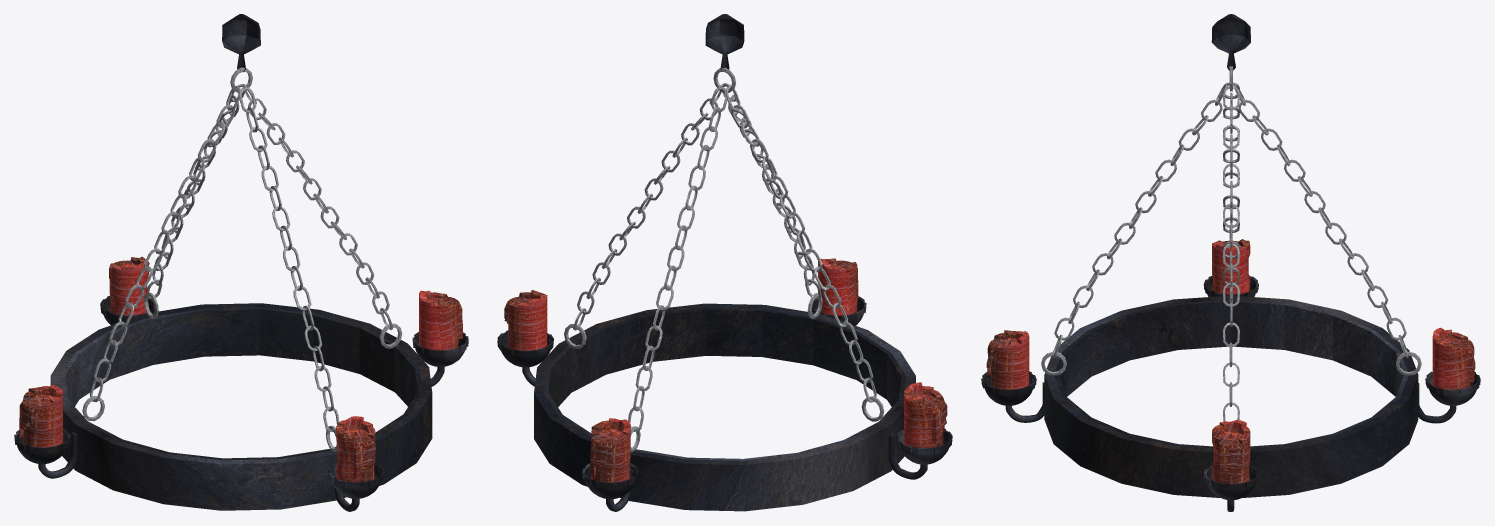
The model's file is Lampara.fbx.
3 views of the same model, side by side, from view 1: azimuth 30°, elevation 25°; view 2: azimuth 150°, elevation 25°; view 3: azimuth 270°, elevation 25° (orthographic). The views are drawn at different scales.
Visible parts, largest first — view 1: Base_lamp, Anillas, Vela2, Vela3, Vela1, Vela4, Soporte_velas3, Top_Lamp, Soporte_velas4, Soporte_velas2; view 2: Base_lamp, Anillas, Vela2, Vela4, Vela1, Vela3, Soporte_velas3, Top_Lamp, Soporte_velas5, Soporte_velas2; view 3: Base_lamp, Anillas, Vela4, Vela3, Vela1, Vela2, Top_Lamp, Soporte_velas4, Soporte_velas5, Soporte_velas2.
Boxes of the visible parts, <box> form: Base_lamp: <box>50,303,432,510</box>; Anillas: <box>82,67,402,451</box>; Vela2: <box>19,384,62,447</box>; Vela3: <box>335,416,375,482</box>; Vela1: <box>419,290,462,350</box>; Vela4: <box>109,256,149,315</box>; Soporte_velas3: <box>14,428,76,478</box>; Top_Lamp: <box>222,14,260,72</box>; Soporte_velas4: <box>328,462,384,511</box>; Soporte_velas2: <box>412,332,468,386</box>; Base_lamp: <box>534,303,915,511</box>; Anillas: <box>564,67,884,452</box>; Vela2: <box>904,382,947,447</box>; Vela4: <box>590,418,630,482</box>; Vela1: <box>504,289,547,350</box>; Vela3: <box>818,258,858,315</box>; Soporte_velas3: <box>888,429,952,479</box>; Top_Lamp: <box>705,14,744,70</box>; Soporte_velas5: <box>582,463,638,511</box>; Soporte_velas2: <box>497,330,553,386</box>; Base_lamp: <box>1044,295,1418,497</box>; Anillas: <box>1041,66,1421,421</box>; Vela4: <box>1432,327,1475,389</box>; Vela3: <box>986,330,1029,389</box>; Vela1: <box>1212,419,1250,483</box>; Vela2: <box>1212,239,1250,294</box>; Top_Lamp: <box>1211,14,1250,70</box>; Soporte_velas4: <box>981,371,1044,422</box>; Soporte_velas5: <box>1417,371,1480,423</box>; Soporte_velas2: <box>1203,465,1258,511</box>.
Bounding box in the file's own units: 4.04 × 3.6 × 4.01.
